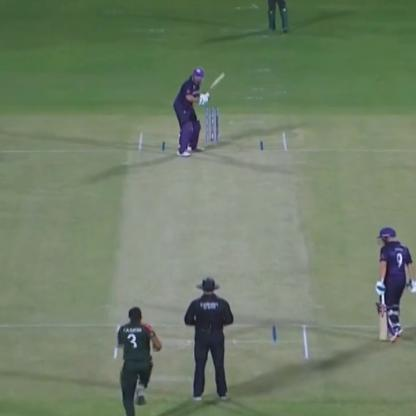pitch: (115, 130, 315, 366)
